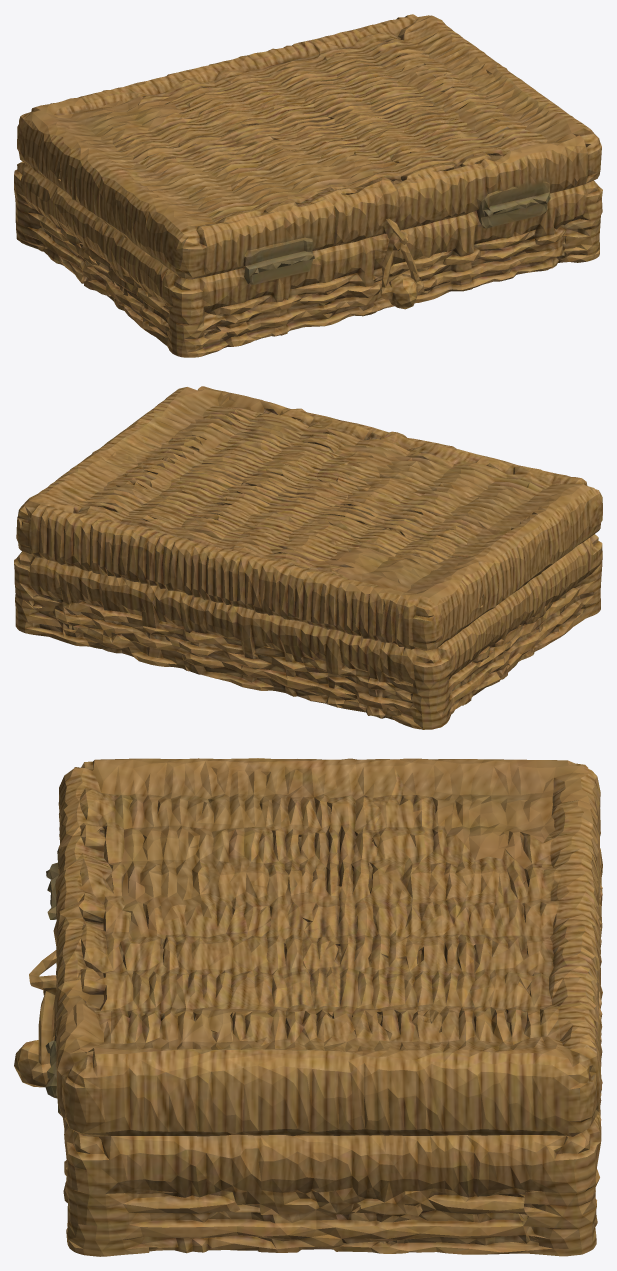
Rendered from basket_lid.glb.
The picture shows the model from 3 angles, top to bottom: view 1: azimuth 30°, elevation 25°; view 2: azimuth 150°, elevation 25°; view 3: azimuth 270°, elevation 25°; orthographic projection. The views are drawn at different scales.
Parts seen in each view (by area): view 1: source_surface_0; view 2: source_surface_0; view 3: source_surface_0.
Part boxes in pixels (bbox=[...]): source_surface_0: bbox=[14, 14, 602, 357]; source_surface_0: bbox=[14, 386, 602, 729]; source_surface_0: bbox=[14, 758, 602, 1256].
Bounding box in the file's own units: 0.3999 × 0.1122 × 0.3107.
1 material, 1 textured.
